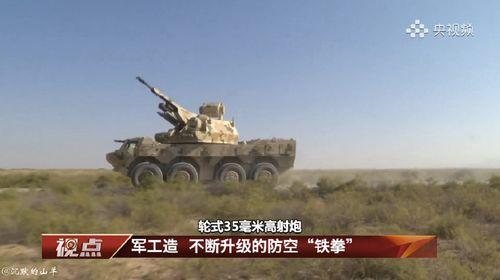MIL_SPG: (106, 76, 296, 186)
